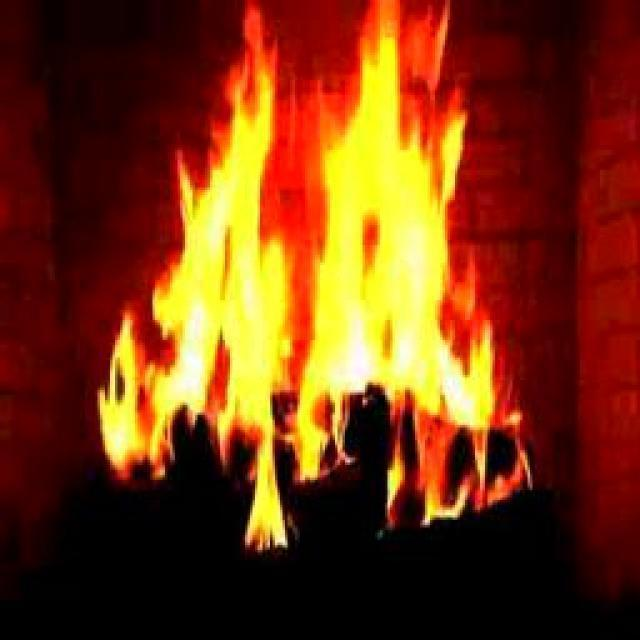Fire: (107, 25, 485, 459)
